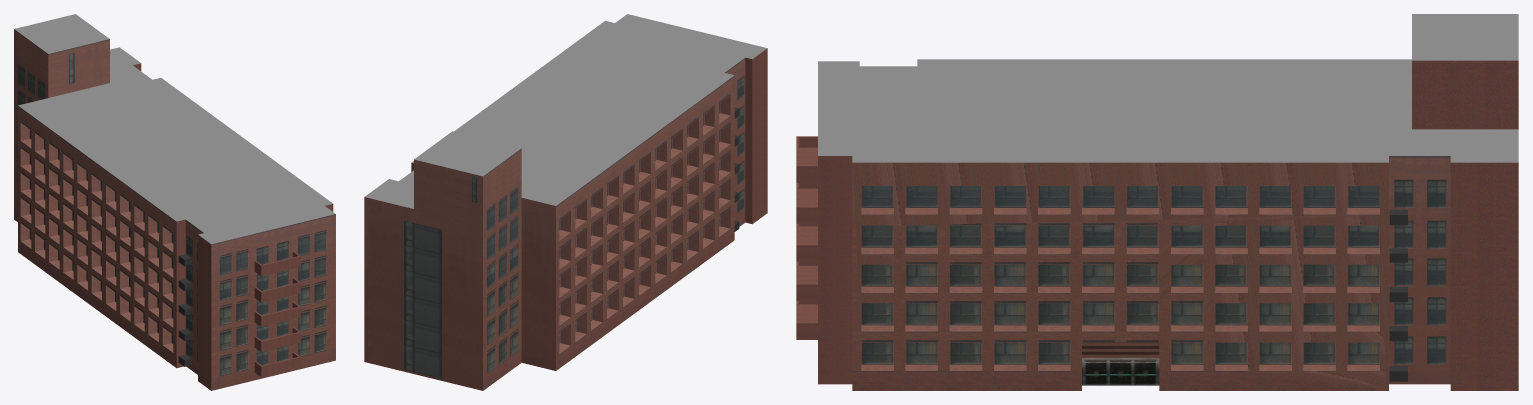
File: side building33.FBX
3 renders of one model, left to right at view 1: azimuth 30°, elevation 25°; view 2: azimuth 150°, elevation 25°; view 3: azimuth 270°, elevation 25°, orthographic. The views are drawn at different scales.
Parts seen in each view (by area): view 1: 北京中外建001; view 2: 北京中外建001; view 3: 北京中外建001.
Part boxes in pixels (box(x1,y1,x2,y2)): 北京中外建001: box(14, 14, 335, 390); 北京中外建001: box(364, 14, 767, 390); 北京中外建001: box(796, 14, 1518, 390).
Bounding box in the file's own units: 19.4 × 57.34 × 26.
